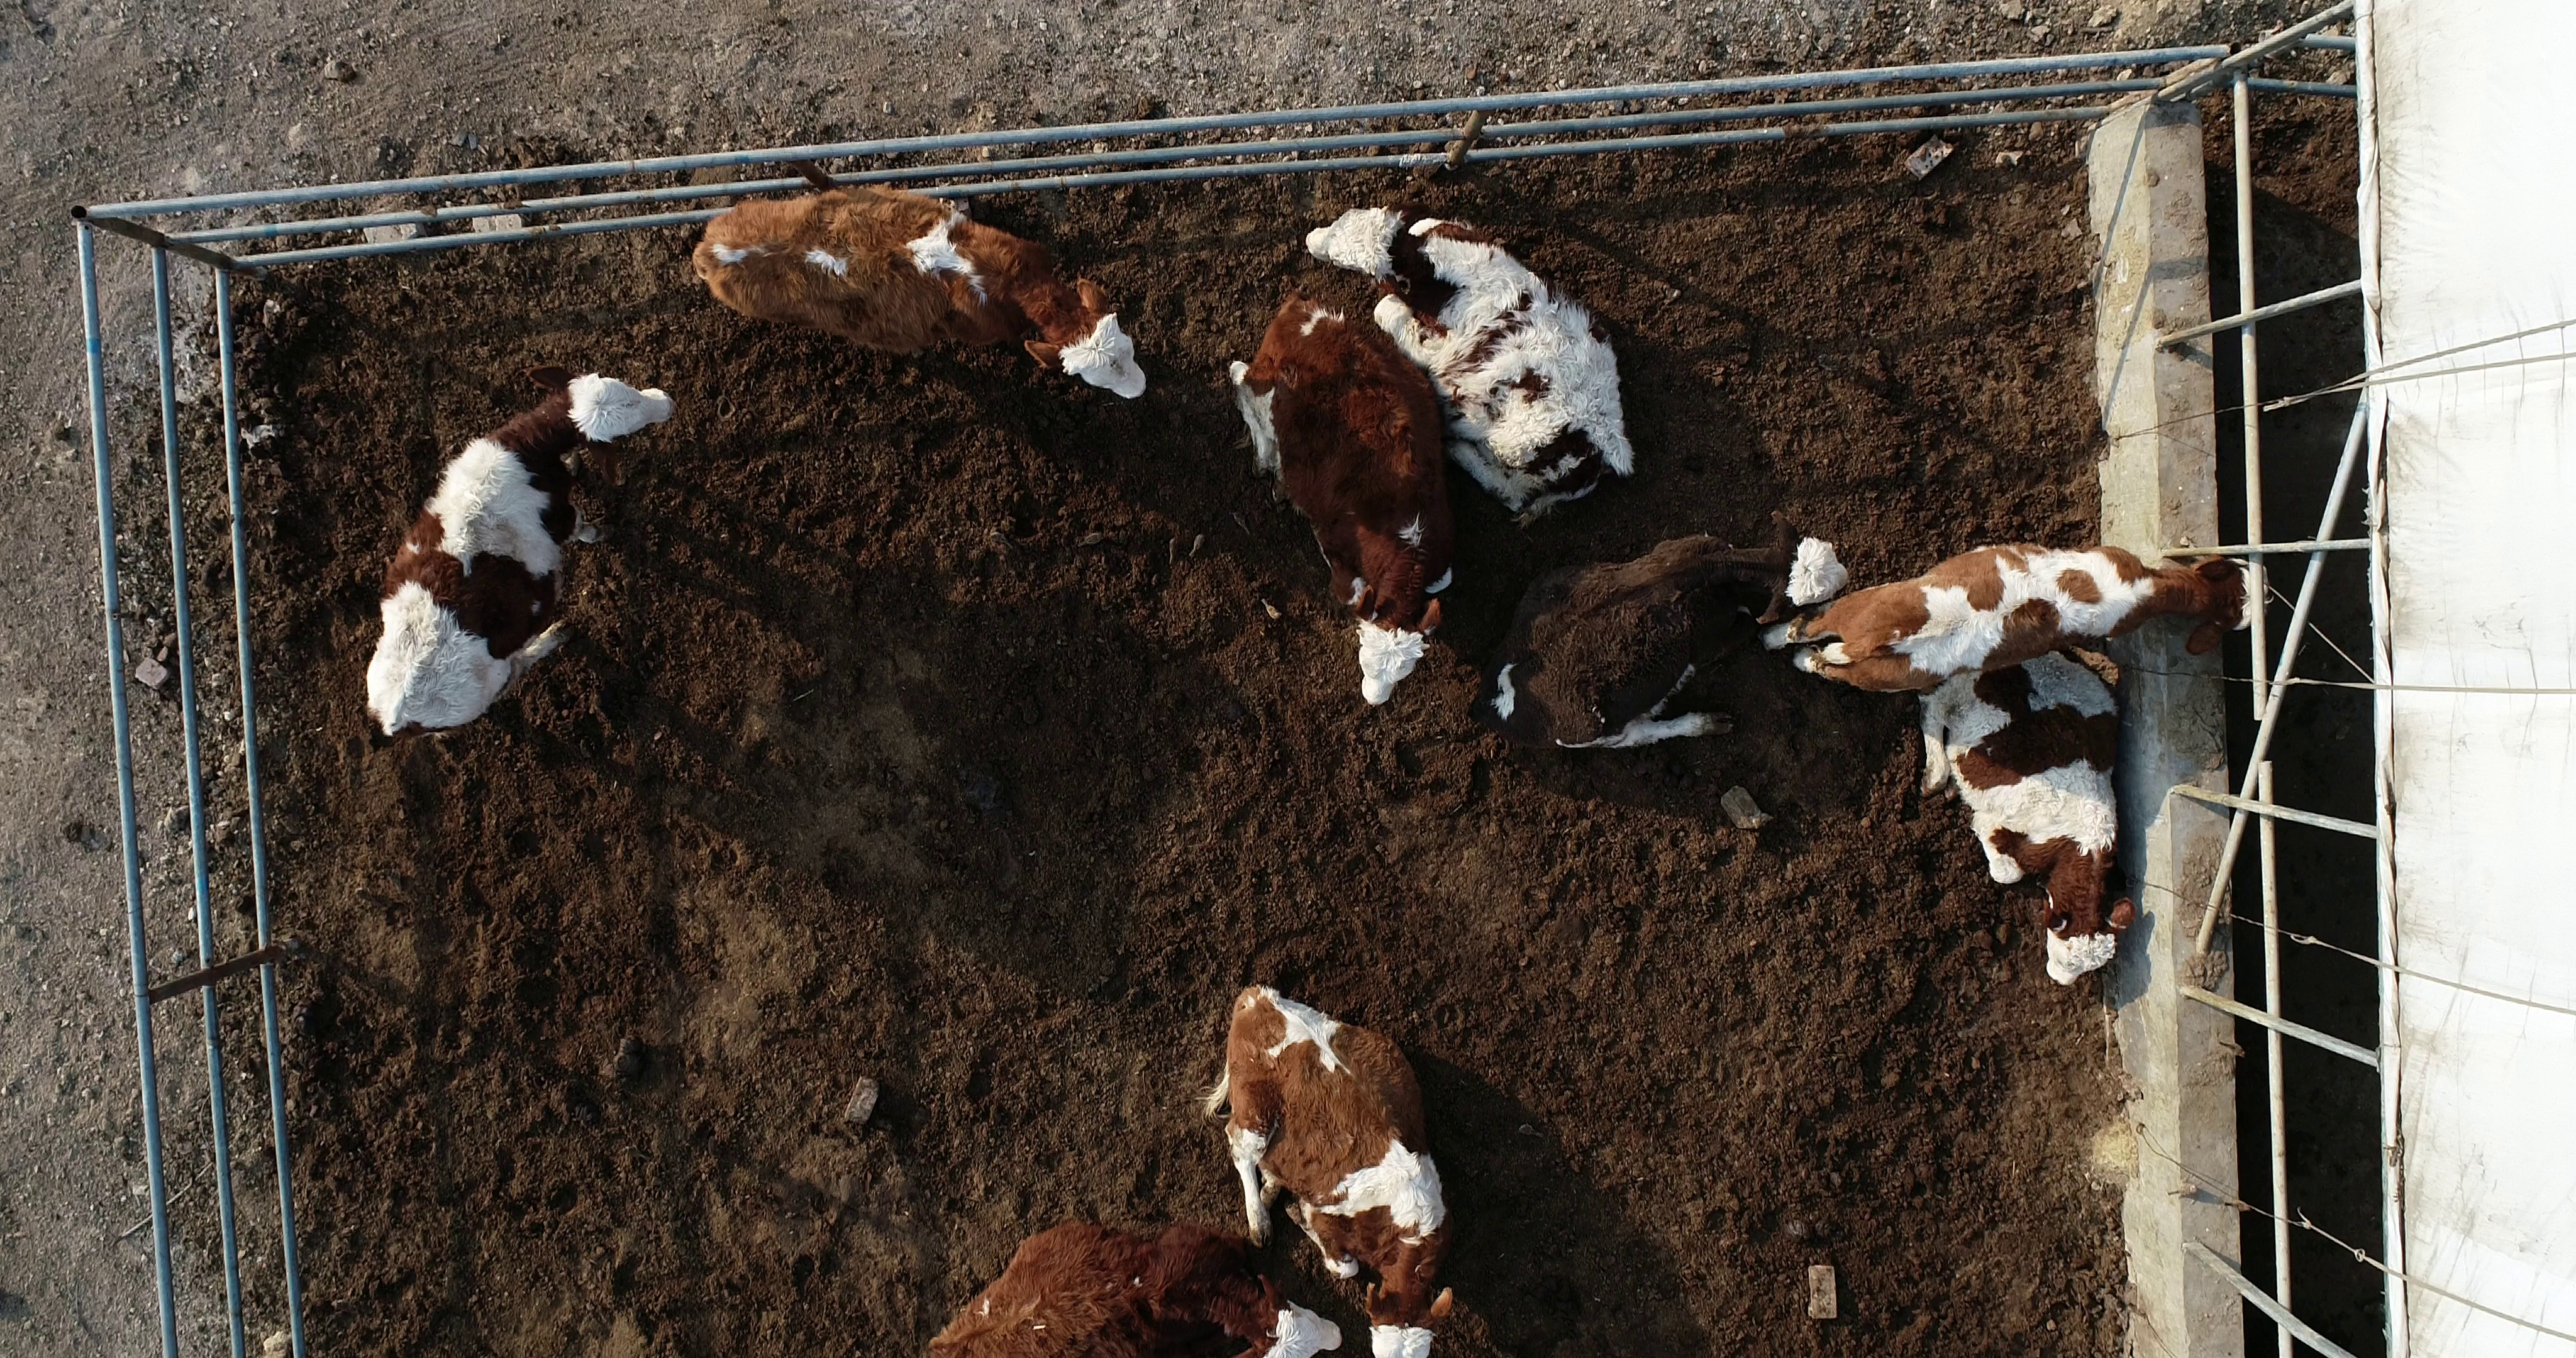cattle: (358, 358, 678, 748), (1303, 199, 1641, 535), (687, 181, 1153, 407), (1223, 288, 1458, 707), (1465, 513, 1850, 758), (1755, 540, 2276, 699)
